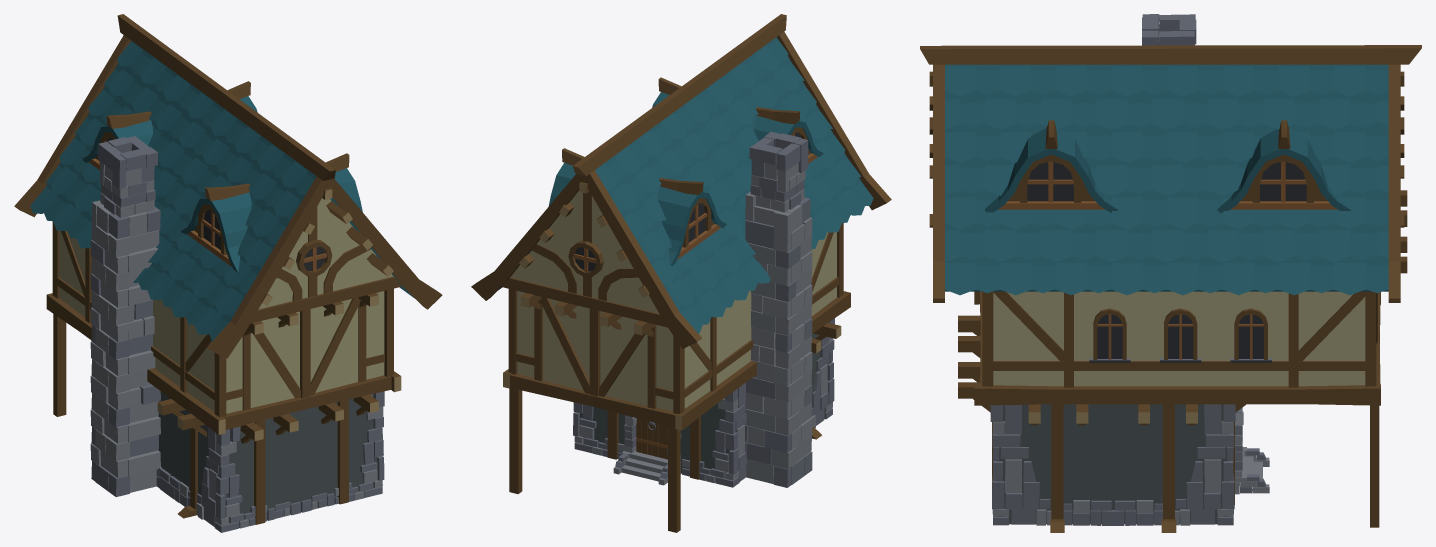
Rendered from fantasy-house-3.glb.
3 views of the same model, side by side, from view 1: azimuth 30°, elevation 25°; view 2: azimuth 150°, elevation 25°; view 3: azimuth 270°, elevation 25° (orthographic). The views are drawn at different scales.
Visible parts, largest first — view 1: House_2; view 2: House_2; view 3: House_2.
Boxes of the visible parts, <box> form: House_2: <box>14,14,442,532</box>; House_2: <box>471,14,891,532</box>; House_2: <box>920,14,1421,532</box>.
Bounding box in the file's own units: 2.22 × 3.25 × 3.42.
1 material, 1 textured.
